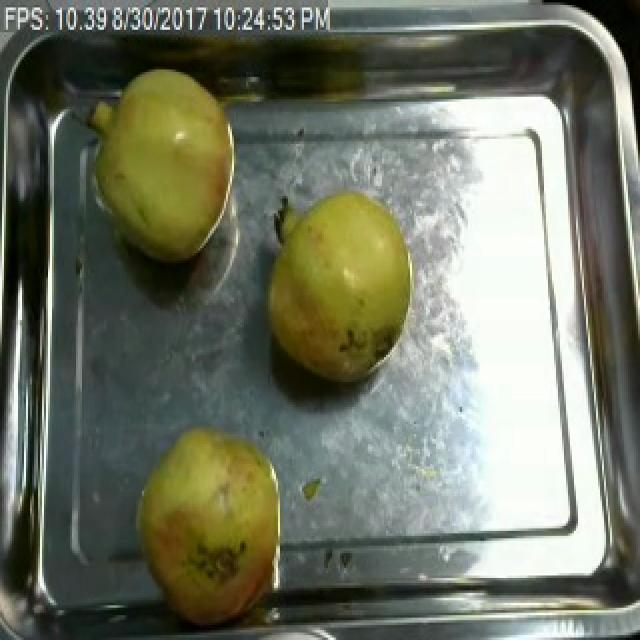fruit: (254, 171, 430, 397), (124, 412, 298, 632), (84, 62, 246, 270)
